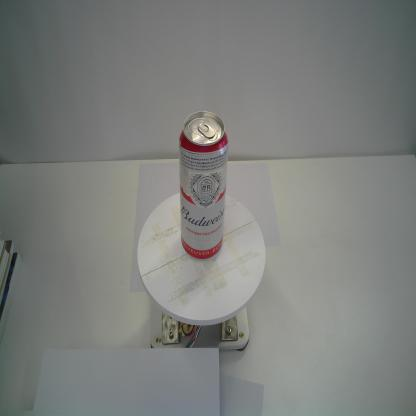Alcohol: (178, 111, 228, 261)
